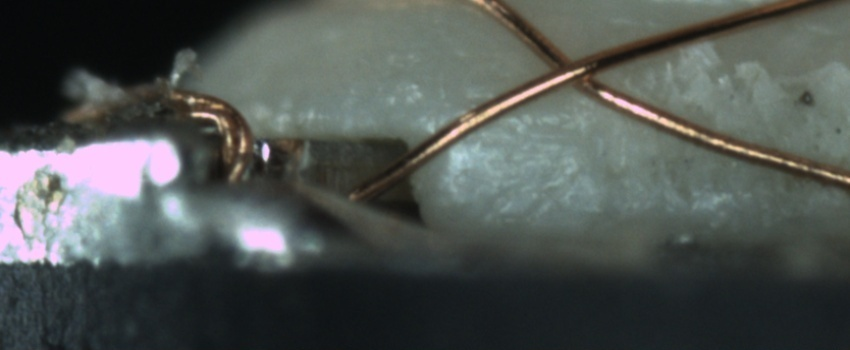CL: (526, 37, 621, 101)
TE: (62, 82, 261, 191)
